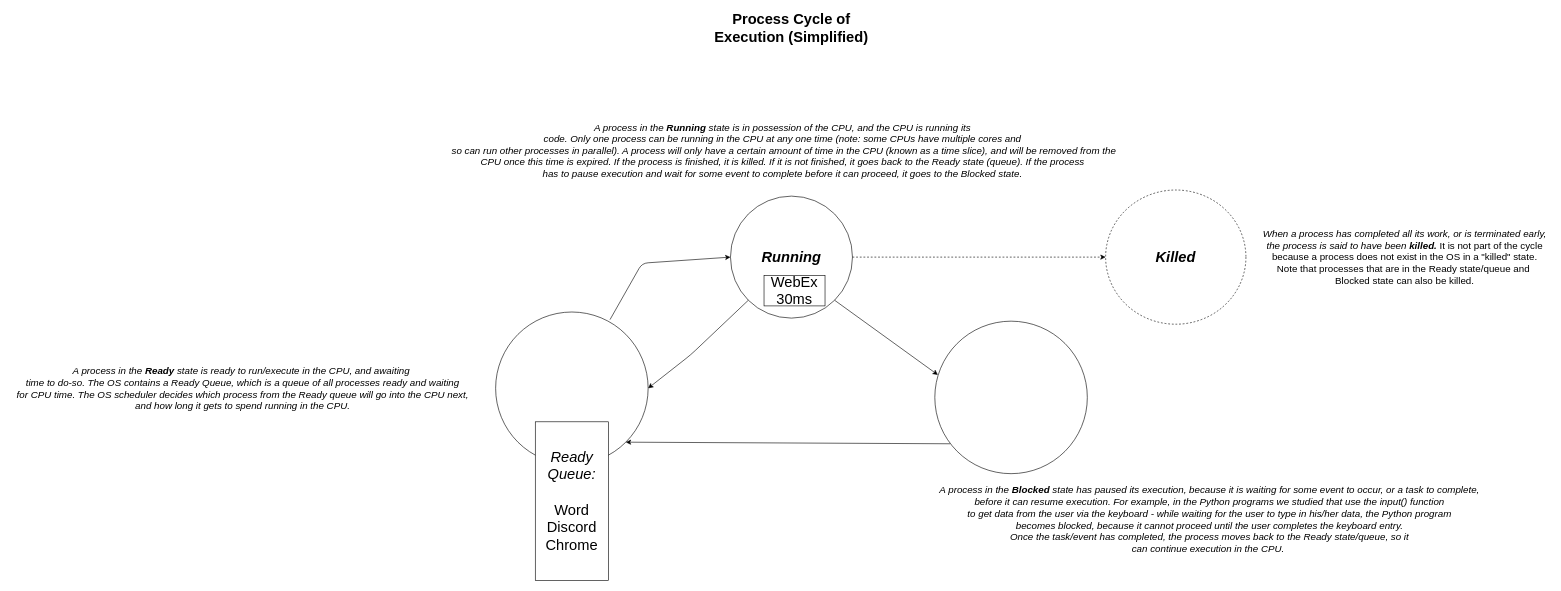
The diagram is 1561 pixels wide and 591 high, and some of its shapes have lost their labels. Each missing label, with the centre of its shape:
Blocked: the point at 1010,397
Ready: the point at 571,388
